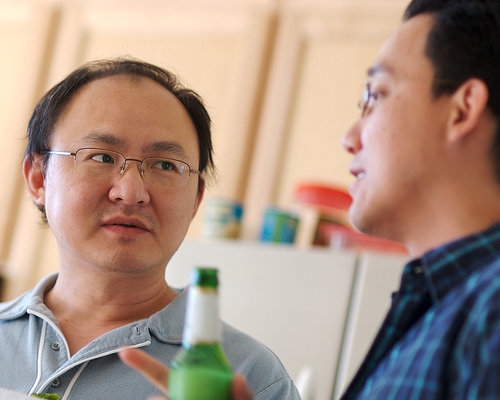without_mask: (30, 83, 208, 276), (350, 16, 495, 236)
